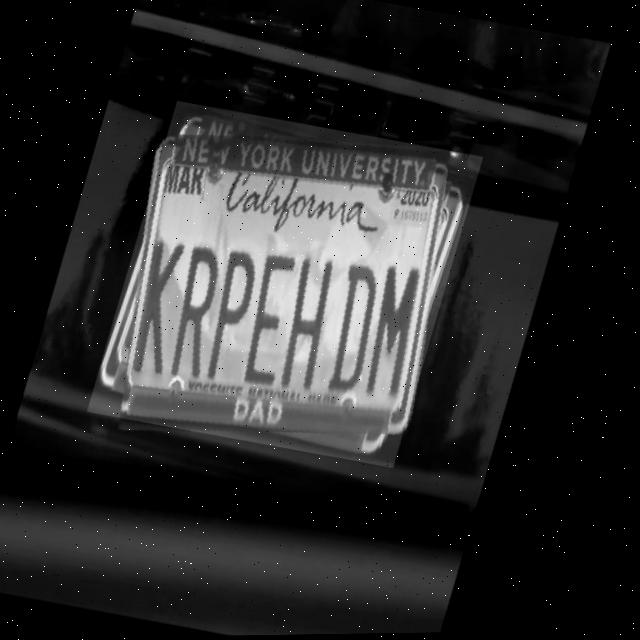LicensePlate: (91, 98, 491, 474)
